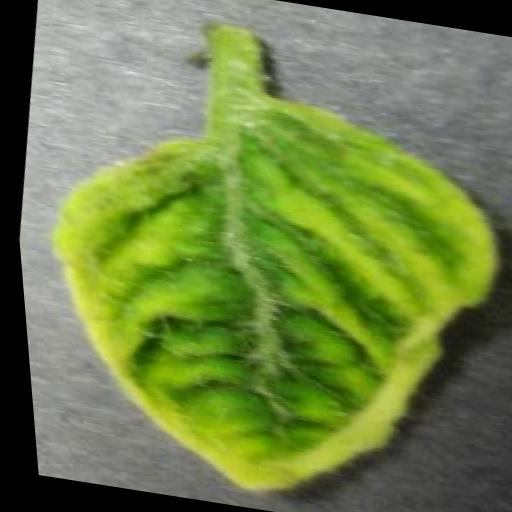Yellow Leaf Curl Virus: (4, 64, 512, 512)
